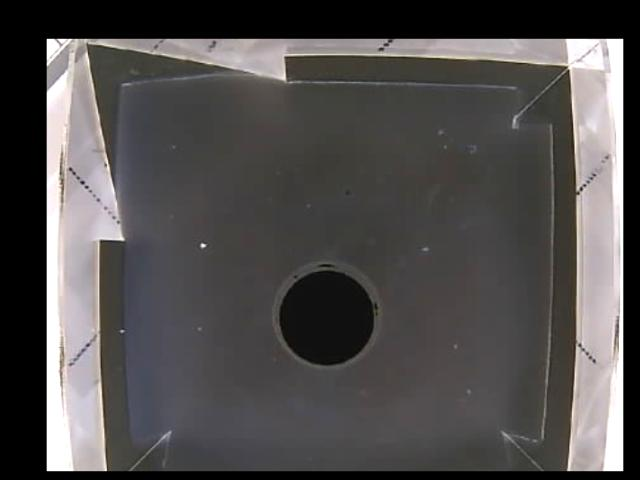Bottle: (271, 260, 380, 367)
